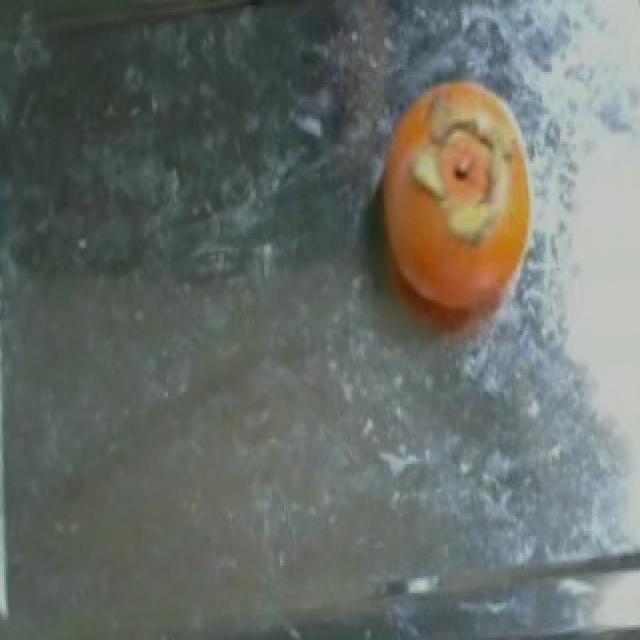Fruit: (352, 59, 554, 374)
